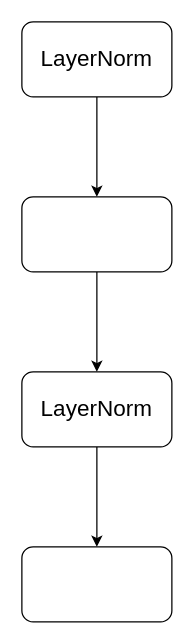
This 194x644 diagram has some shape labels left out. Each missing label, with the box of its shape:
CausalSelfAttention: (21, 196, 172, 272)
MLP: (21, 546, 172, 622)
